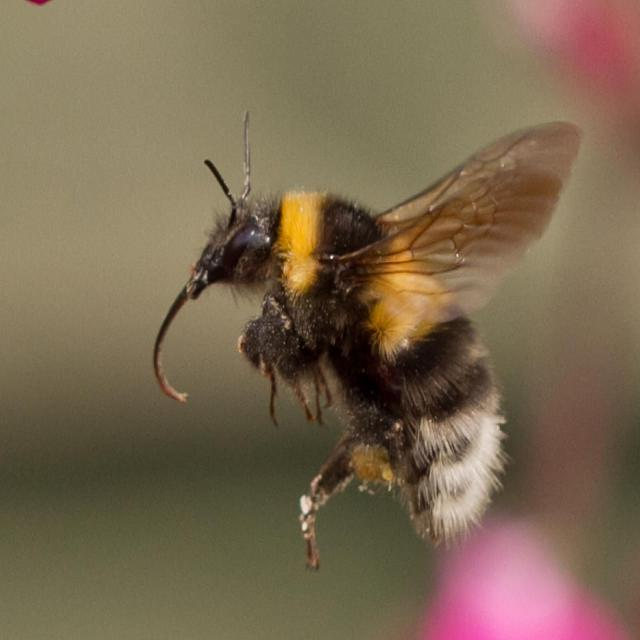Braunsapis: (143, 105, 603, 577)
